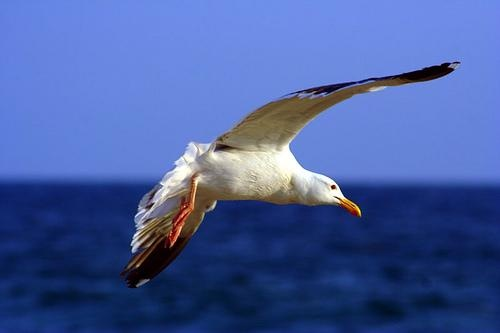bird: (116, 56, 462, 290)
